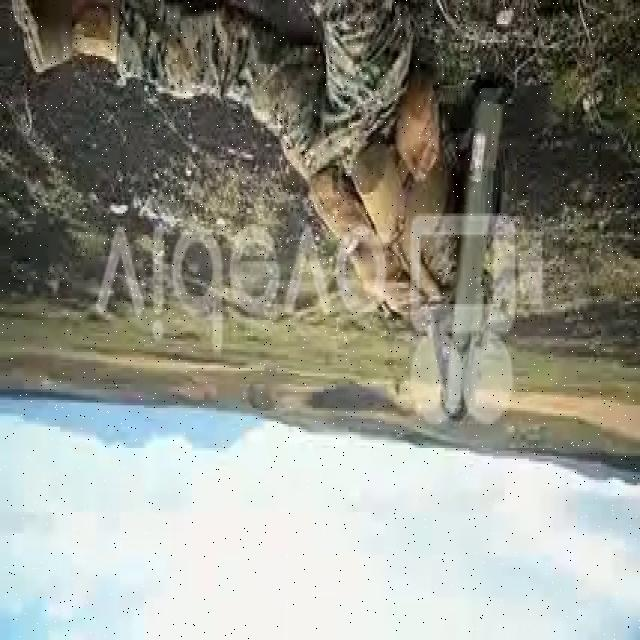bazooka: (441, 66, 519, 427)
